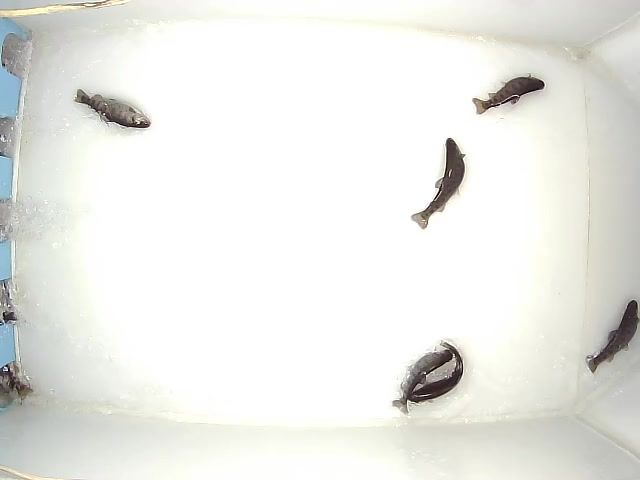fish: (410, 137, 466, 232), (584, 299, 640, 375), (391, 349, 454, 416), (408, 340, 466, 404), (471, 71, 546, 117), (73, 88, 153, 129)
